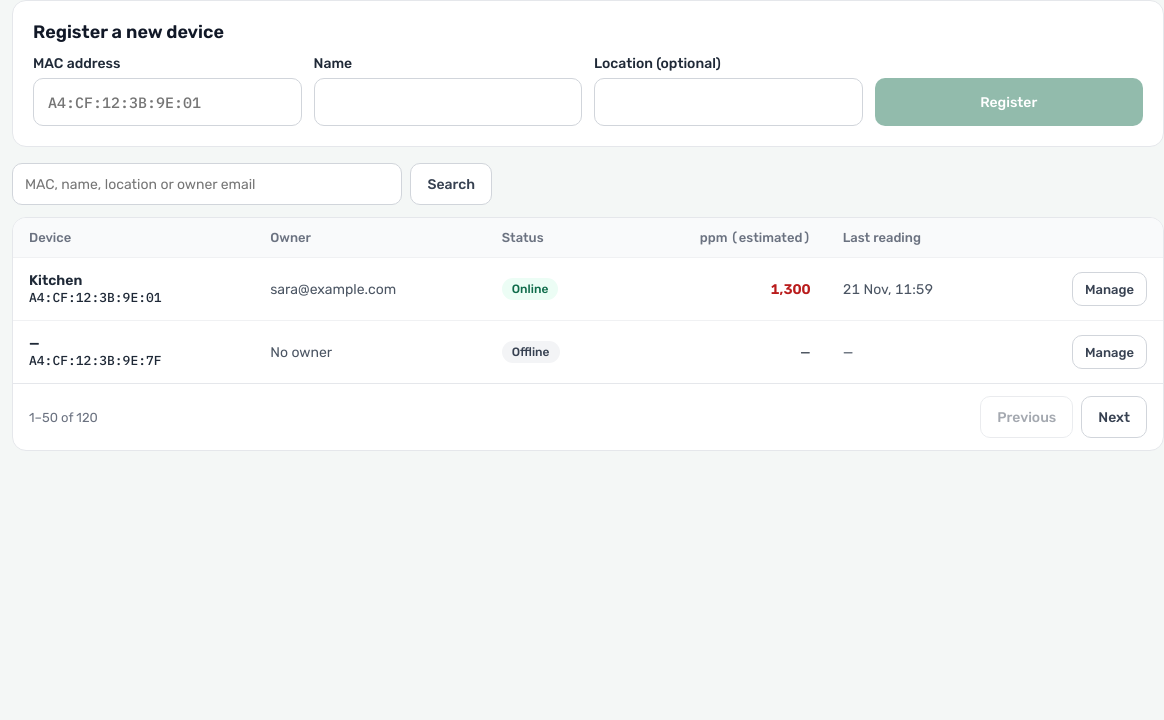
Test: AdminDevices list › a search asks from page 1 and closes the panel; so does a new page
Click the button "Manage" in the row of "Kitchen" at [1110, 289], box [1072,272,1147,306]
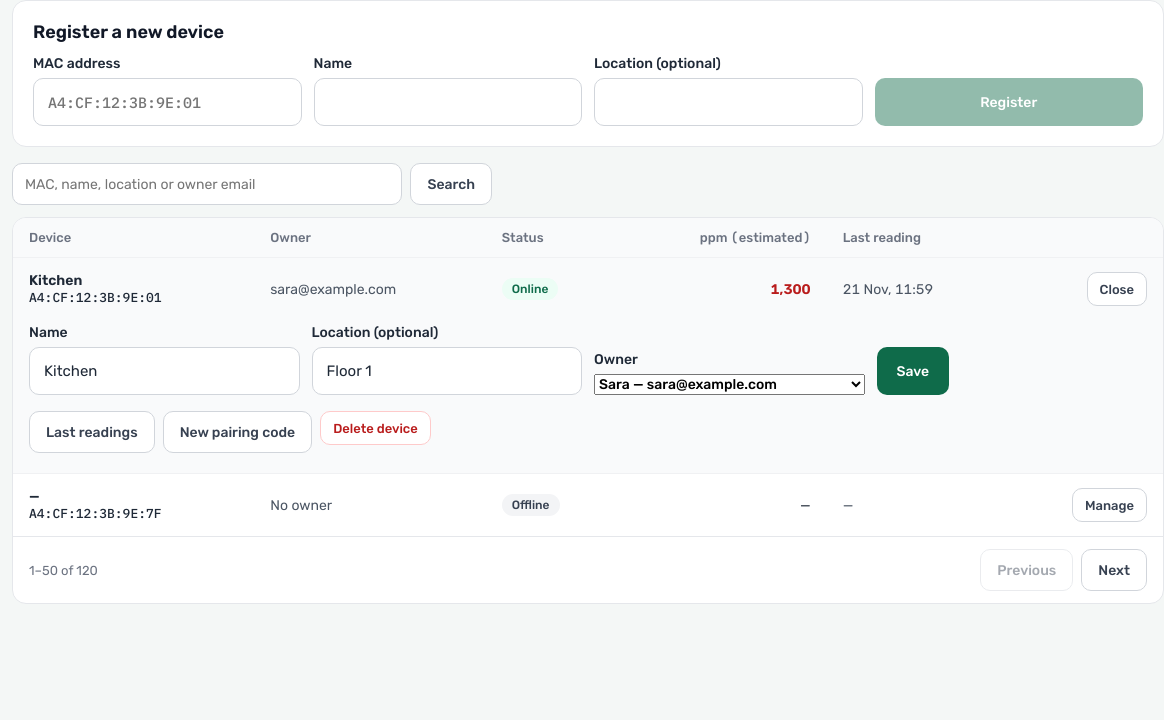
Click the button "Next" at [1114, 570], box [1081,549,1147,591]
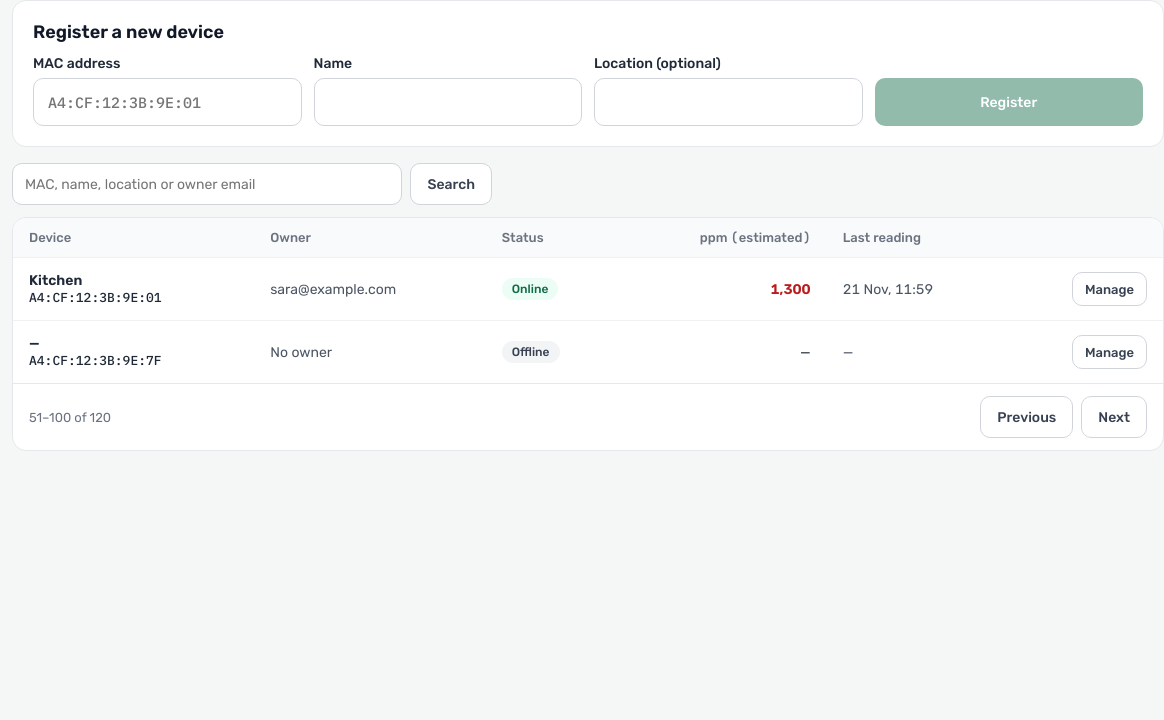
Now the element with class "admin-panel" is gone
Click the button "Manage" in the row of "Kitchen" at [1110, 289], box [1072,272,1147,306]
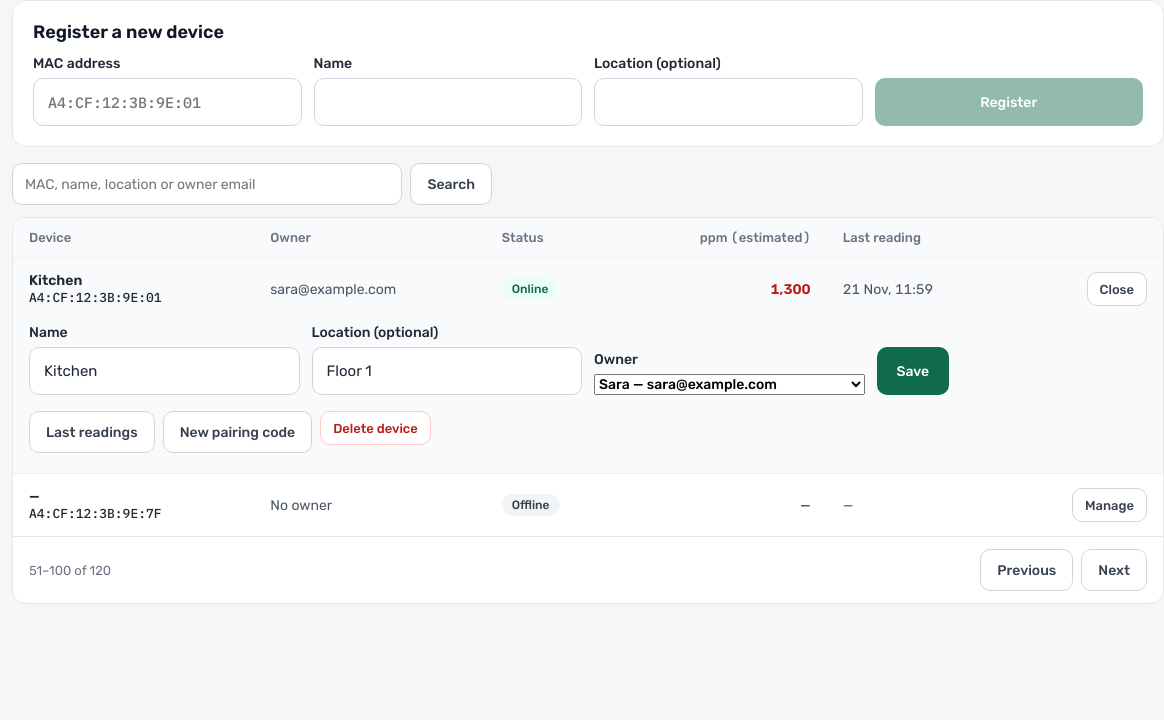
Type " kitchen " into the search field at [207, 184], box [12,163,402,205]
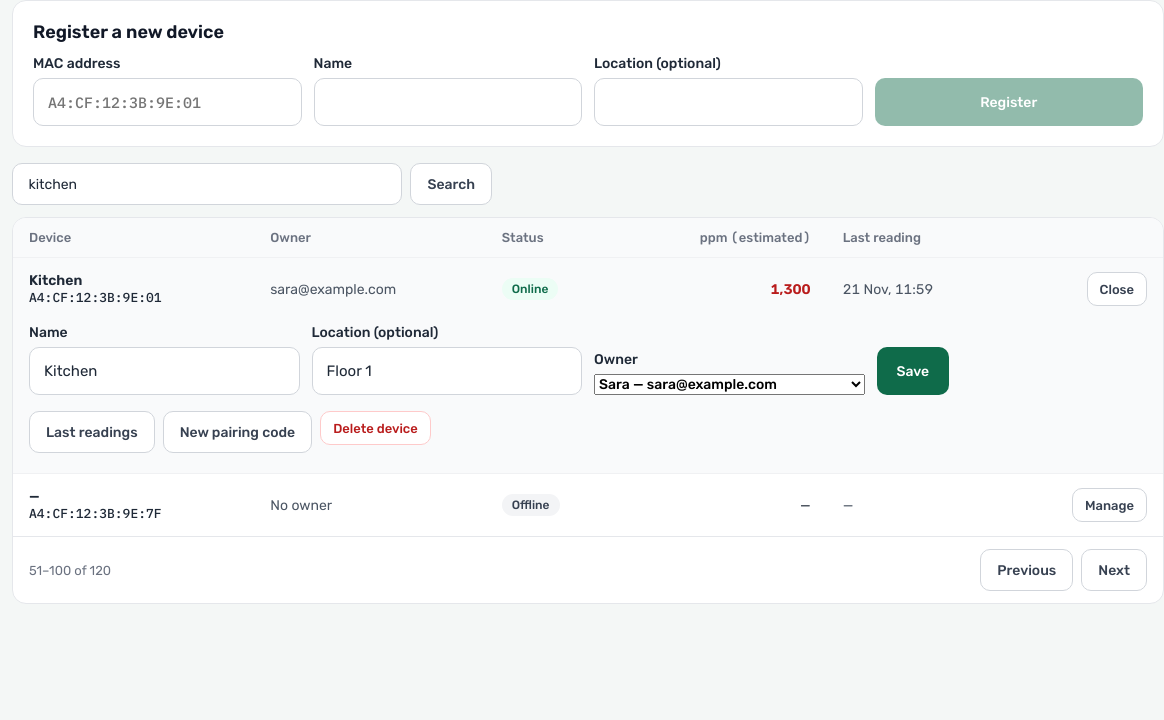
Submit the form "Search", box [12,163,492,205]
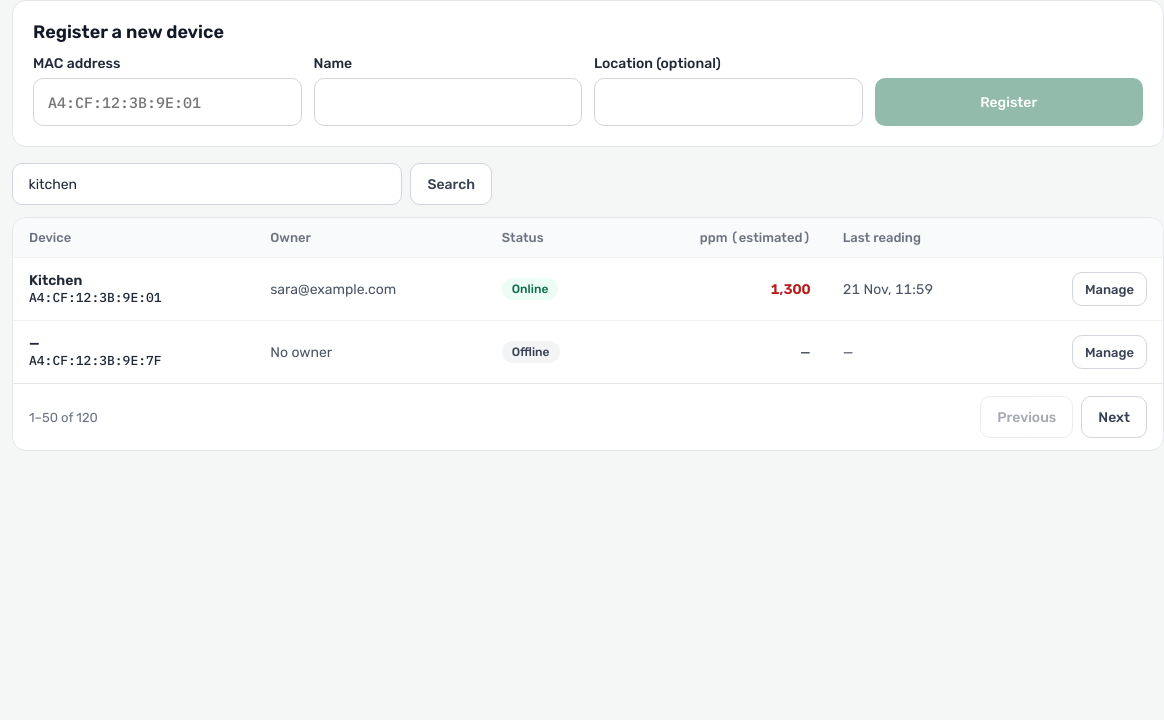
Now the element with class "admin-panel" is gone
